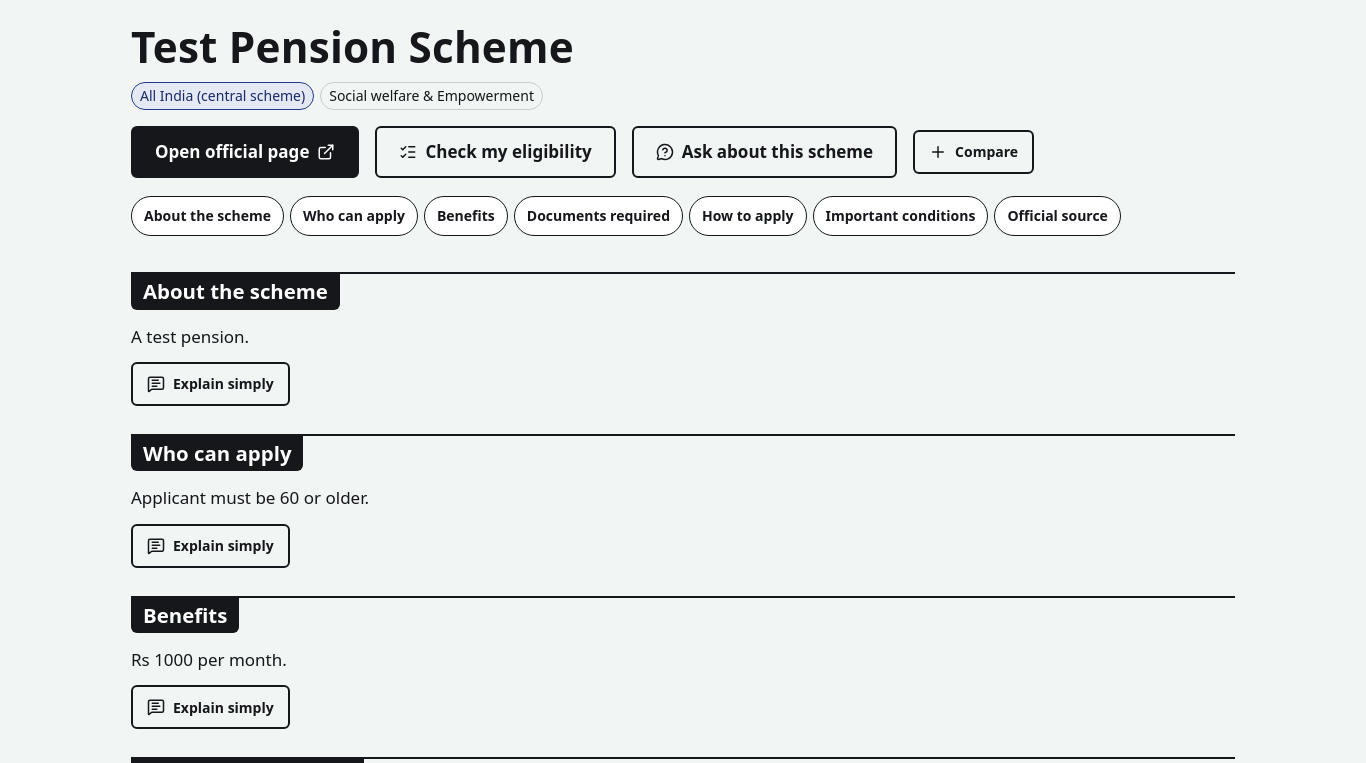
it: scheme detail › shows missing fields honestly and keeps the official text beside the simple version
The width and height of the screenshot is (1366, 763).
Click the button "Explain simply" below "Applicant must be 60 or older.": (210, 546) [131,524,290,568]
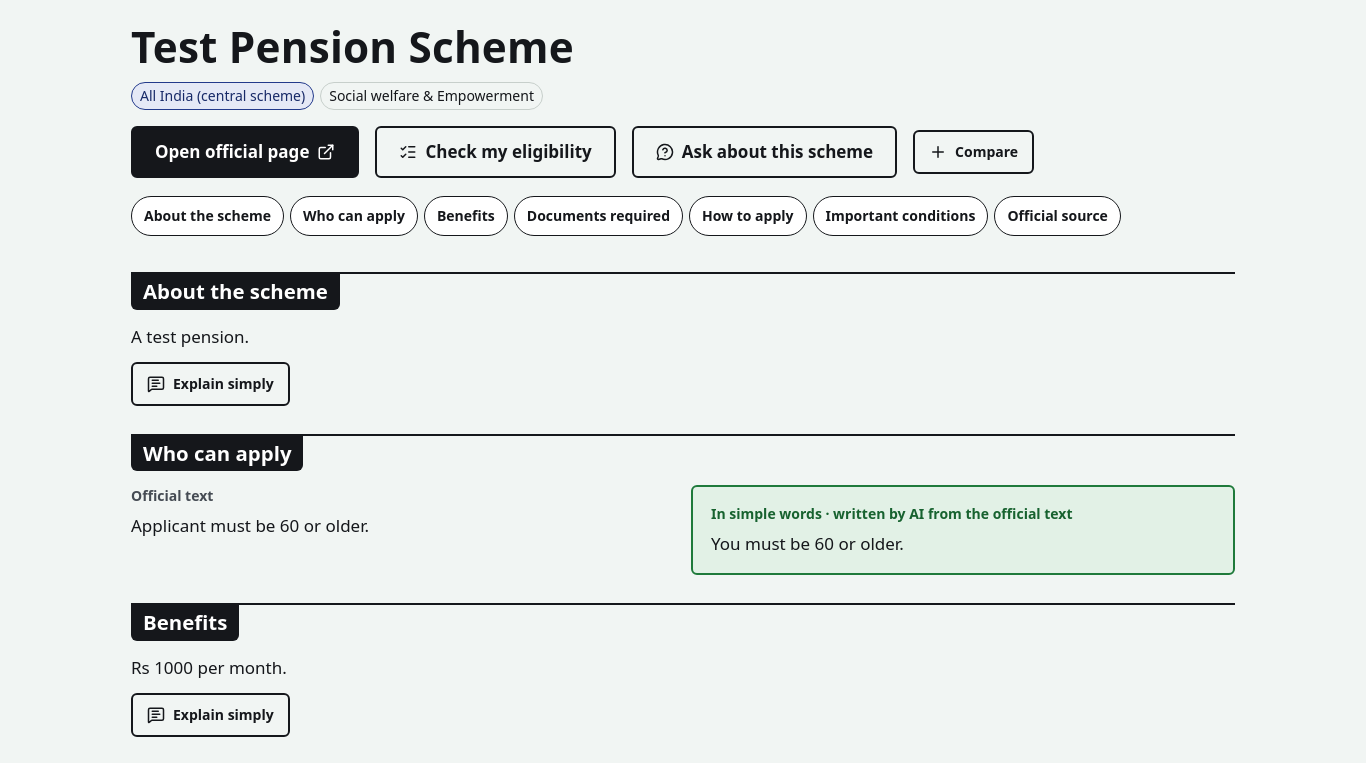
Check: the text "Applicant must be 60 or older." is shown, box [131,514,369,537]
Check: the text "You must be 60 or older." is shown, box [711,532,904,555]
Check: the text "In simple words · written by AI from the official text" is shown, box [711,504,1072,523]
